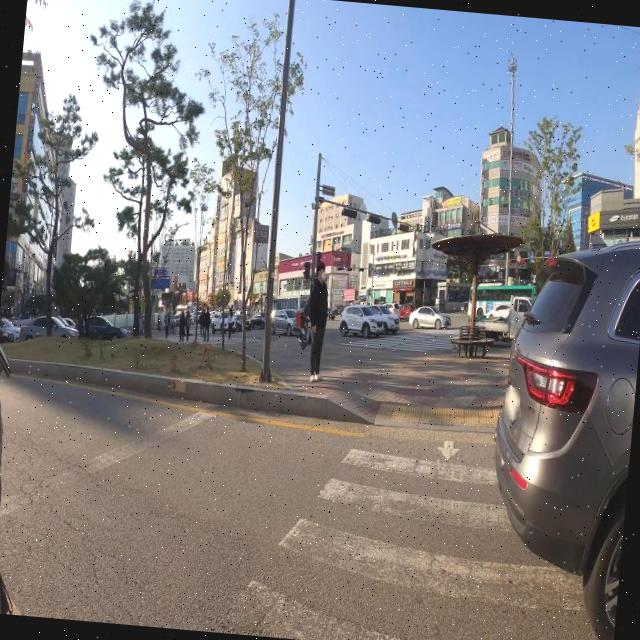crosswalk: (209, 434, 596, 640), (338, 326, 469, 353), (155, 334, 264, 343), (178, 326, 217, 335)
